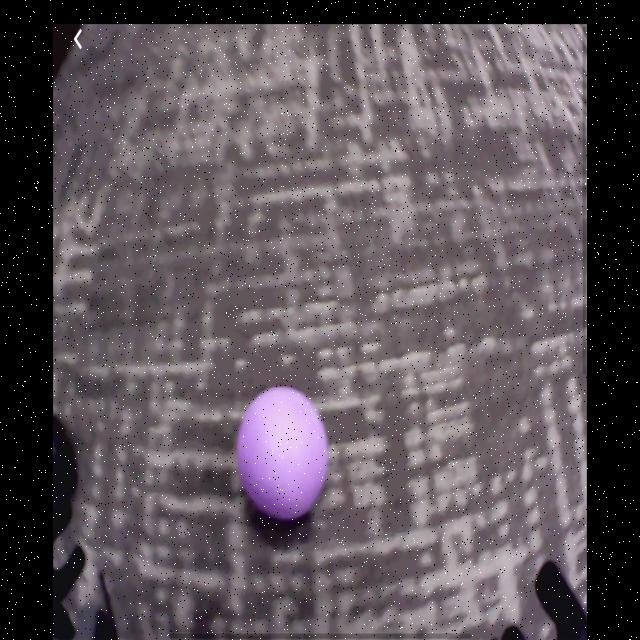ball: (237, 386, 330, 527)
